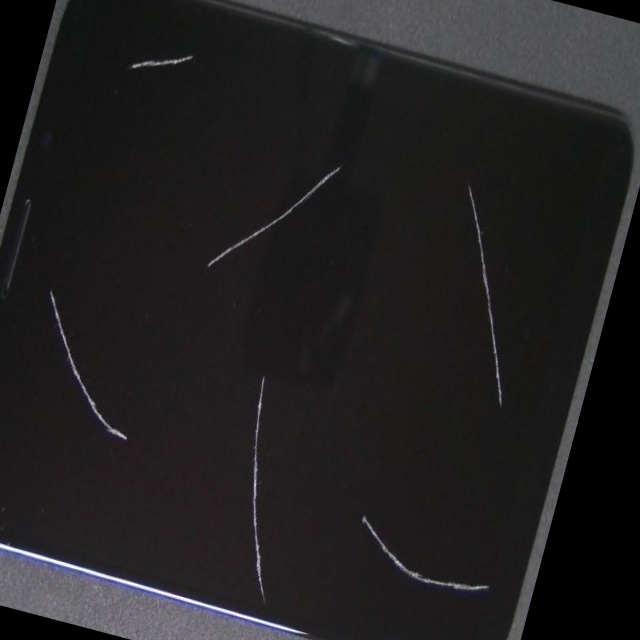scratch: (144, 0, 640, 441), (151, 215, 608, 640), (144, 0, 263, 120)
